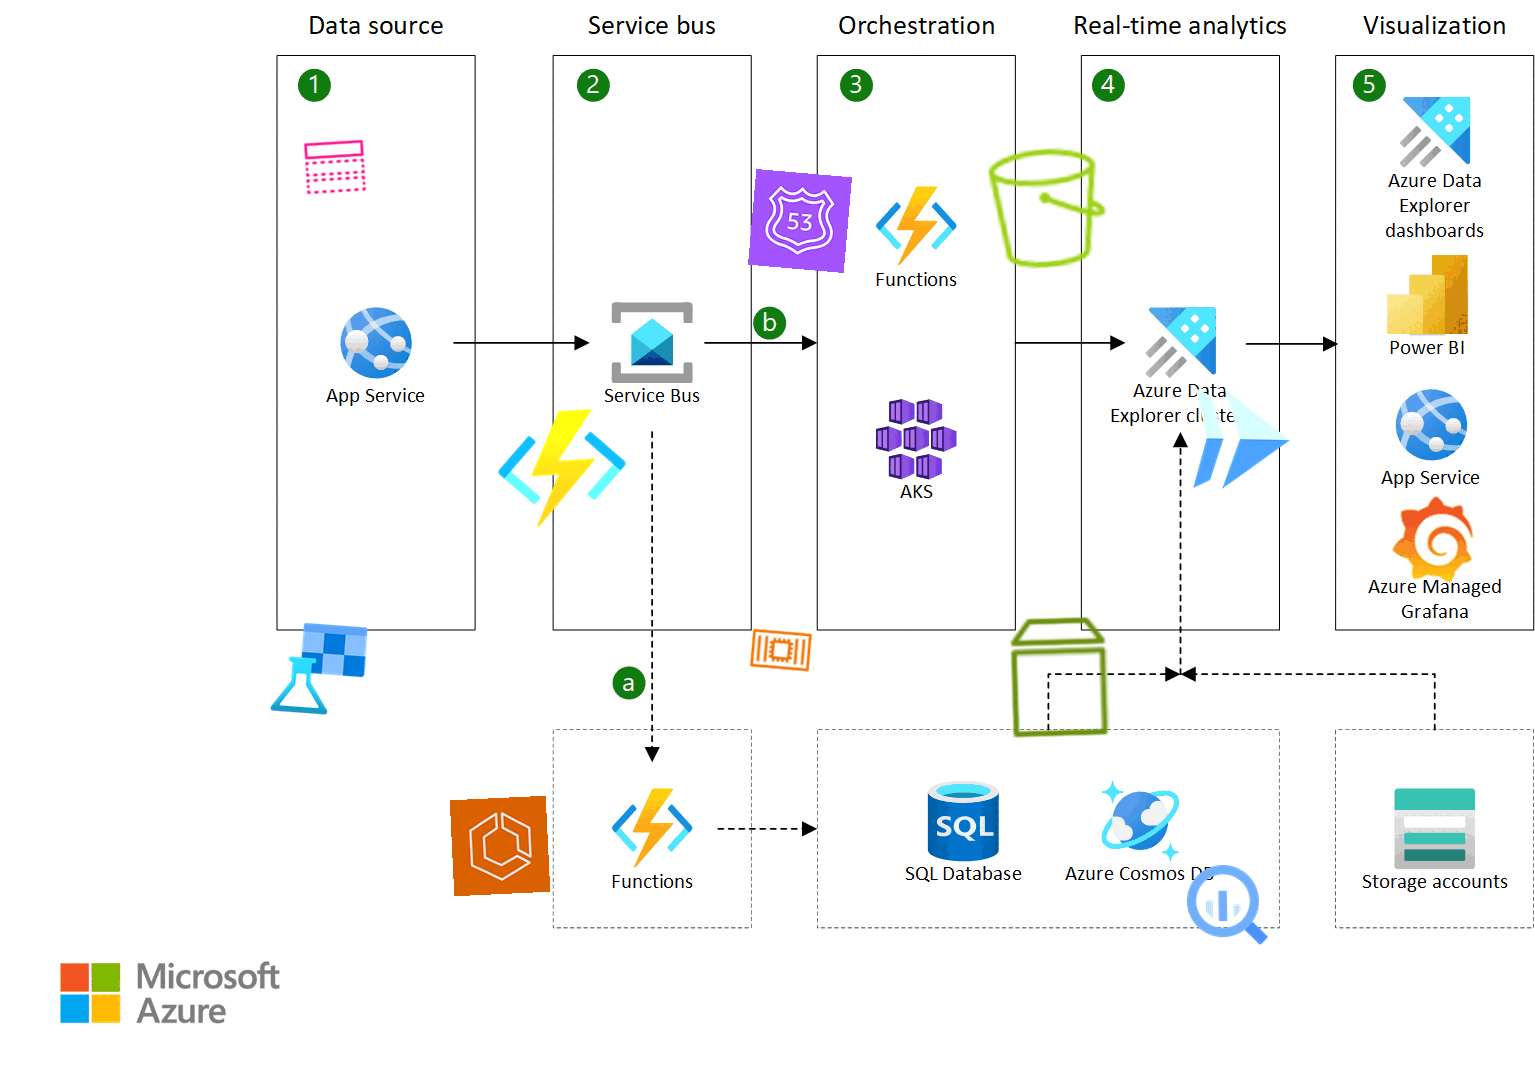aws_amazon_elastic_container_service: (449, 795, 551, 897)
aws_amazon_route_53: (748, 169, 852, 273)
aws_elastic_block_store_volume: (994, 611, 1126, 743)
aws_elastic_container_service_container_2: (746, 615, 816, 684)
aws_simple_notification_service_topic: (301, 132, 369, 200)
aws_simple_storage_service_s3_standard: (978, 138, 1118, 278)
azure_function_apps: (493, 399, 632, 537)
azure_machine_learning_studio_workspaces: (267, 617, 371, 721)
gcp_bigquery: (1178, 856, 1276, 954)
gcp_cloud_run: (1174, 373, 1307, 505)
